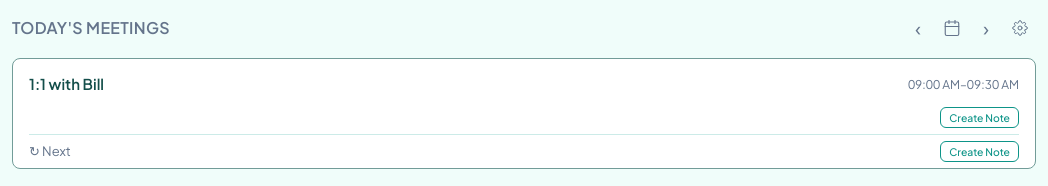
it: MeetingsSection — date navigation › stepping forward a day shows the next day and the "Tomorrow's Meetings" heading
The image size is (1048, 186).
Expected: the text "1:1 with Bill" is shown, [29,74,104,93]
Click the button with test id "meetings-next-day" at (986, 28), box [970,12,1002,44]
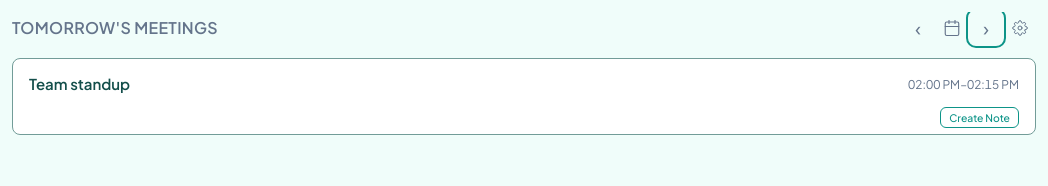
Expected: the text "Team standup" is shown, [29,74,130,93]
Expected: the heading with test id "meetings-heading" reads "Tomorrow's Meetings", [12,17,218,38]
